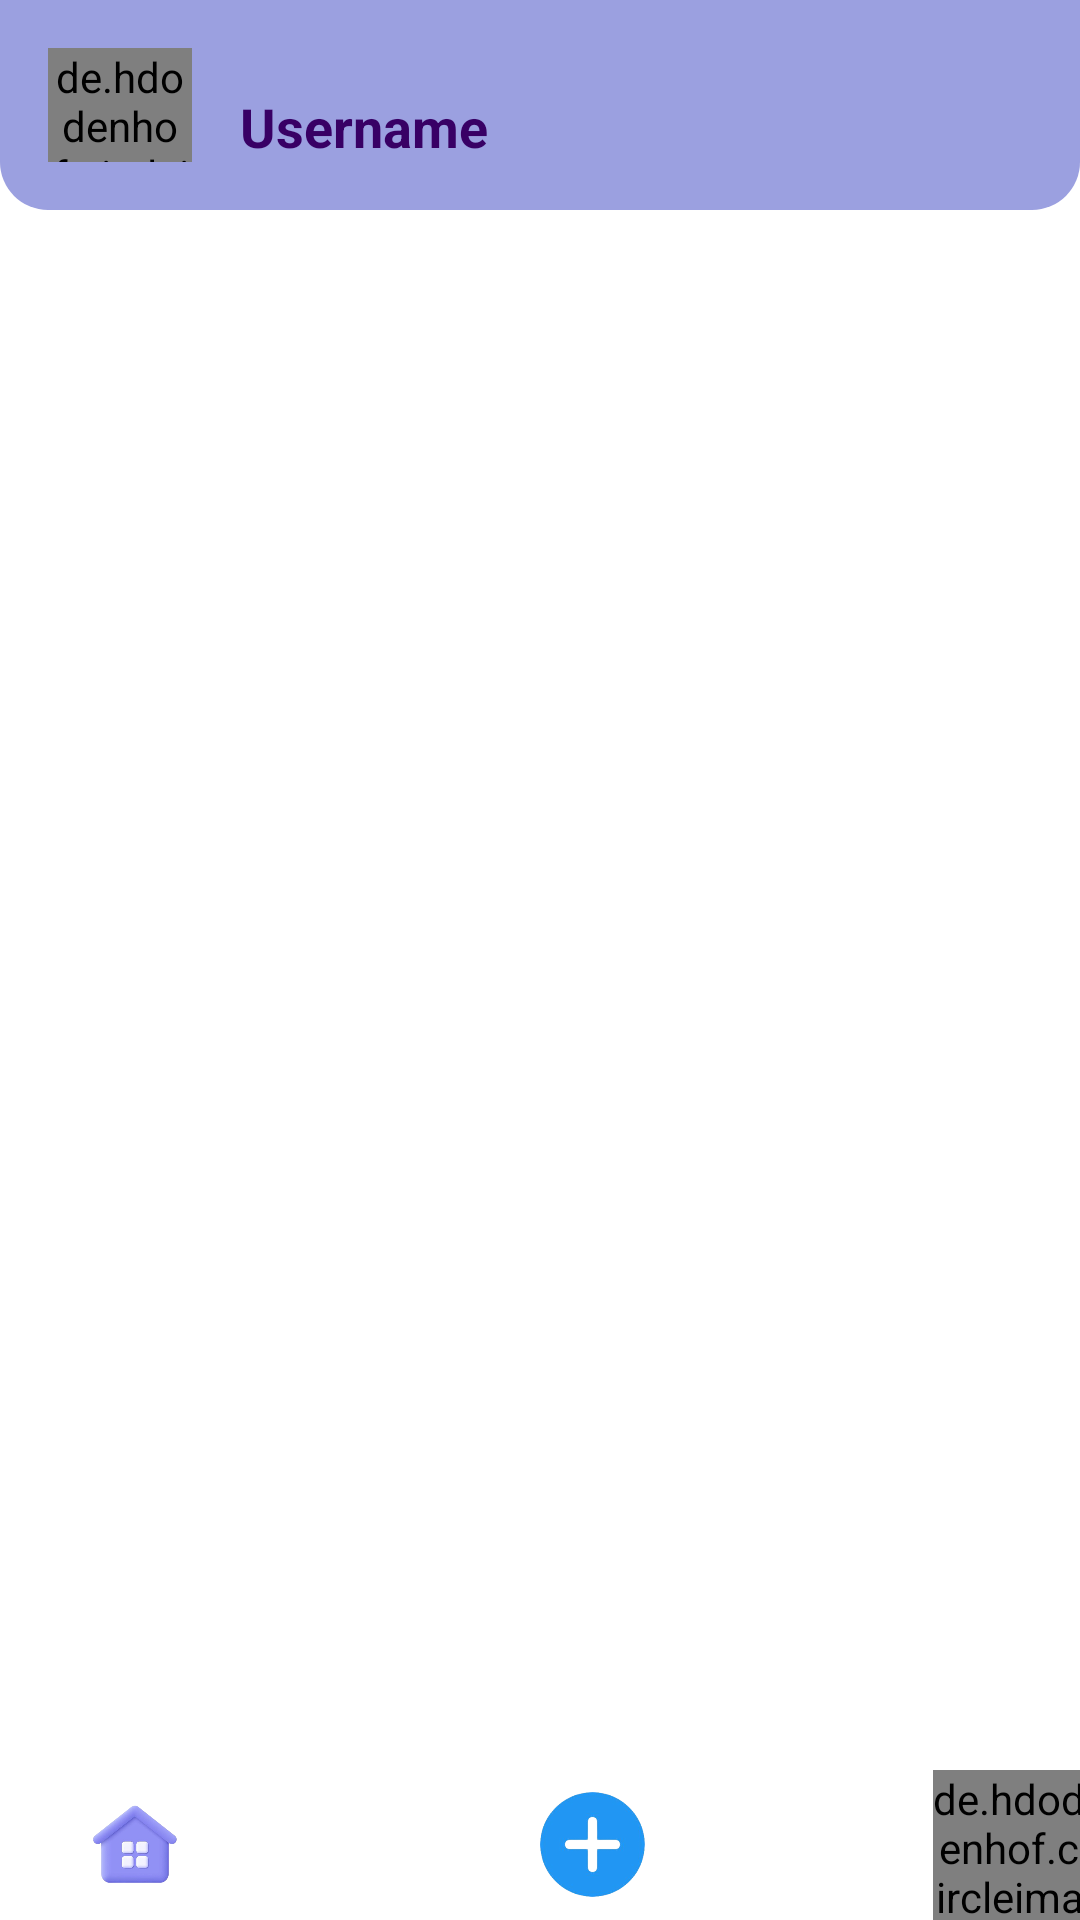

Screen size 1080w x 1920h. Icon name, then its box in pixels as {"x1": x1, "y1": y1, "x2": x2, "y2": y2}:
home: {"x1": 93, "y1": 1806, "x2": 177, "y2": 1883}
